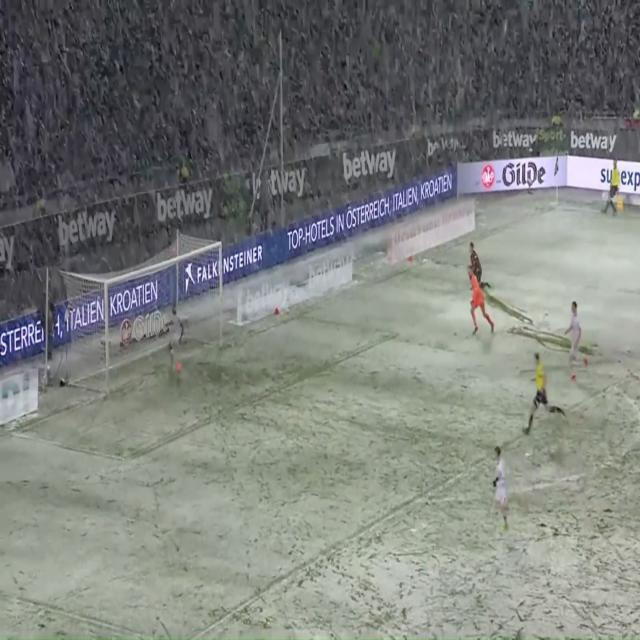ball: (175, 362, 182, 374)
goalkeeper: (458, 265, 495, 337)
player: (559, 295, 590, 385), (488, 439, 513, 533), (164, 303, 186, 372), (465, 240, 491, 295)
referee: (520, 347, 567, 438), (599, 153, 625, 223)
